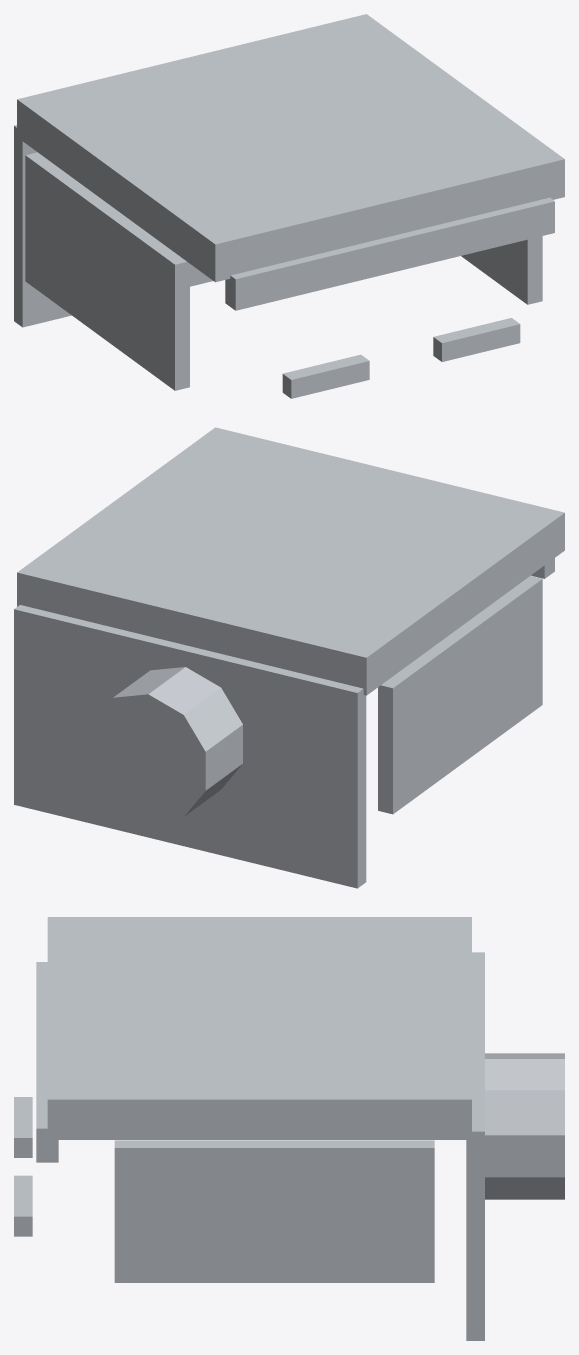
File: npc_gear_hair_bun.fbx
The picture shows the model from 3 angles, top to bottom: view 1: azimuth 30°, elevation 25°; view 2: azimuth 150°, elevation 25°; view 3: azimuth 270°, elevation 25°; orthographic projection. The views are drawn at different scales.
Parts seen in each view (by area): view 1: npc_gear_hair_bun; view 2: npc_gear_hair_bun; view 3: npc_gear_hair_bun.
Boxes of the visible parts, x1=… form: npc_gear_hair_bun: x1=14, y1=14, x2=564, y2=398; npc_gear_hair_bun: x1=14, y1=427, x2=564, y2=888; npc_gear_hair_bun: x1=14, y1=917, x2=564, y2=1340.
Size of the model in its own units: 122 by 72 by 148.
